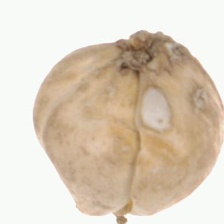L1: (107, 30, 187, 66), (72, 200, 158, 223)
L2: (32, 30, 224, 223)
